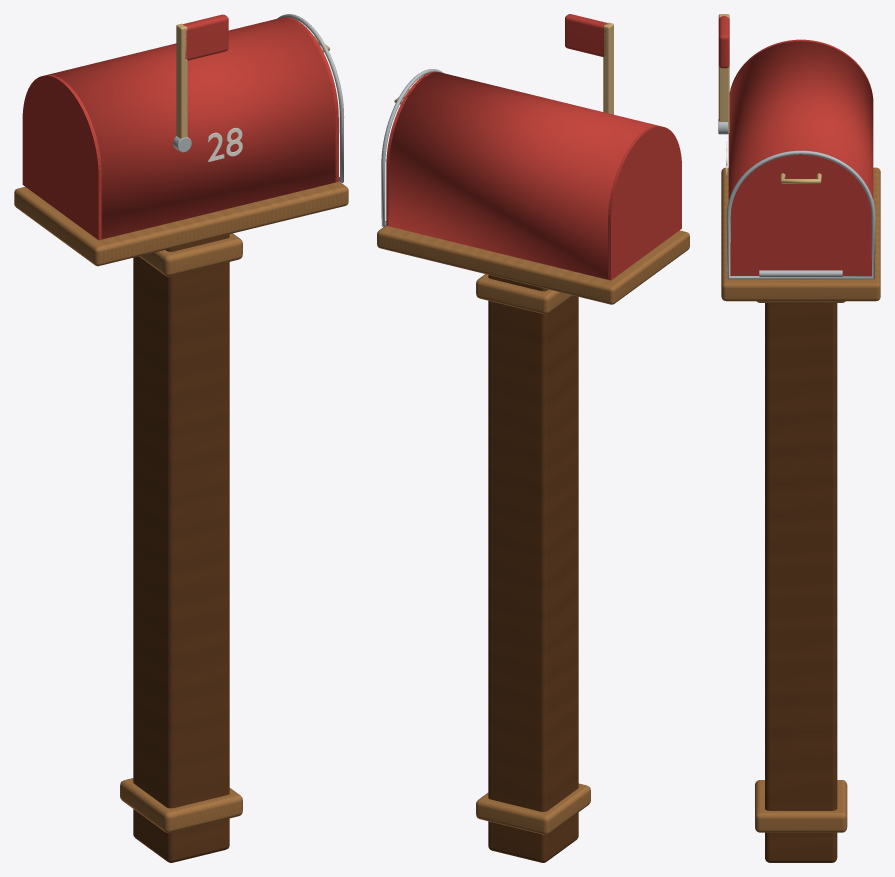
Rendered from mailbox.glb.
3 views of the same model, side by side, from view 1: azimuth 30°, elevation 25°; view 2: azimuth 150°, elevation 25°; view 3: azimuth 270°, elevation 25° (orthographic). The views are drawn at different scales.
Visible parts, largest first — view 1: GEO-Chamfered timber post, GEO-Hollow arched mailbox shell, GEO-Arched back panel, GEO-Mailbox support plank, GEO-Post collar, GEO-Post collar.001, GEO-Signal flag, GEO-Flag upright, GEO-Raised door perimeter, GEO-Arched front door; view 2: GEO-Chamfered timber post, GEO-Hollow arched mailbox shell, GEO-Arched back panel, GEO-Mailbox support plank, GEO-Post collar, GEO-Post collar.001, GEO-Signal flag, GEO-Flag upright, GEO-Raised door perimeter; view 3: GEO-Chamfered timber post, GEO-Hollow arched mailbox shell, GEO-Arched front door, GEO-Mailbox support plank, GEO-Post collar, GEO-Raised door perimeter, GEO-Flag upright, GEO-Mailbox lower door hinge, GEO-Signal flag.
Boxes of the visible parts, x1,y1,x2,y2 form: GEO-Chamfered timber post: (133,234,229,862); GEO-Hollow arched mailbox shell: (47,17,337,239); GEO-Arched back panel: (22,75,101,240); GEO-Mailbox support plank: (14,181,348,266); GEO-Post collar: (120,778,242,833); GEO-Post collar.001: (139,233,242,276); GEO-Signal flag: (183,14,228,60); GEO-Flag upright: (176,23,187,138); GEO-Raised door perimeter: (277,14,344,182); GEO-Arched front door: (282,17,338,182); GEO-Chamfered timber post: (488,275,578,862); GEO-Hollow arched mailbox shell: (387,72,657,279); GEO-Arched back panel: (608,125,681,280); GEO-Mailbox support plank: (377,225,689,304); GEO-Post collar: (476,783,590,834); GEO-Post collar.001: (476,274,572,314); GEO-Signal flag: (565,14,607,56); GEO-Flag upright: (603,22,613,114); GEO-Raised door perimeter: (381,69,443,226); GEO-Chamfered timber post: (765,303,837,862); GEO-Hollow arched mailbox shell: (728,41,873,199); GEO-Arched front door: (730,149,871,275); GEO-Mailbox support plank: (721,167,880,301); GEO-Post collar: (755,780,847,832); GEO-Raised door perimeter: (726,150,875,279); GEO-Flag upright: (718,14,729,133); GEO-Mailbox lower door hinge: (759,270,842,277); GEO-Signal flag: (718,15,729,68).
Bounding box in the file's own units: 0.3367 × 1.04 × 0.1875.
Materials: 6 (2 with a texture image).
